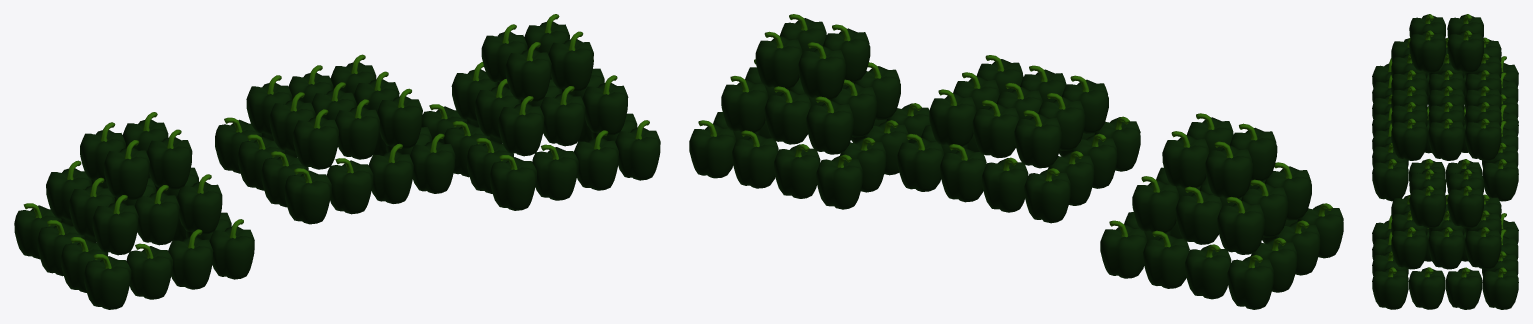
Rendered from SmoothPepperPile.obj.
3 renders of one model, left to right at view 1: azimuth 30°, elevation 25°; view 2: azimuth 150°, elevation 25°; view 3: azimuth 270°, elevation 25°, orthographic. The views are drawn at different scales.
Parts seen in each view (by area): view 1: greenPepper; view 2: greenPepper; view 3: greenPepper.
Boxes of the visible parts, box(x1,y1,x2,y2) form: greenPepper: box(14, 14, 660, 309); greenPepper: box(689, 14, 1343, 309); greenPepper: box(1372, 14, 1518, 309).
Size of the model in its own units: 34.25 by 7.6 by 9.6.
